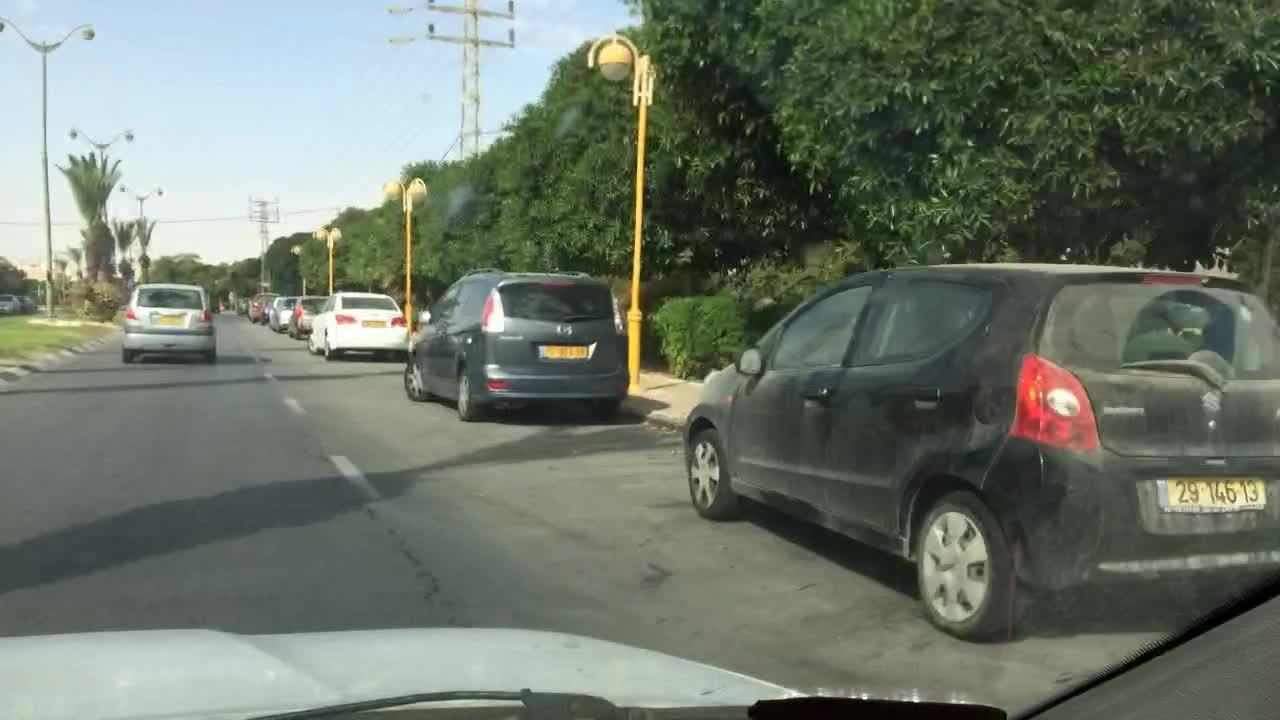suzuki: (1198, 388, 1223, 418)
